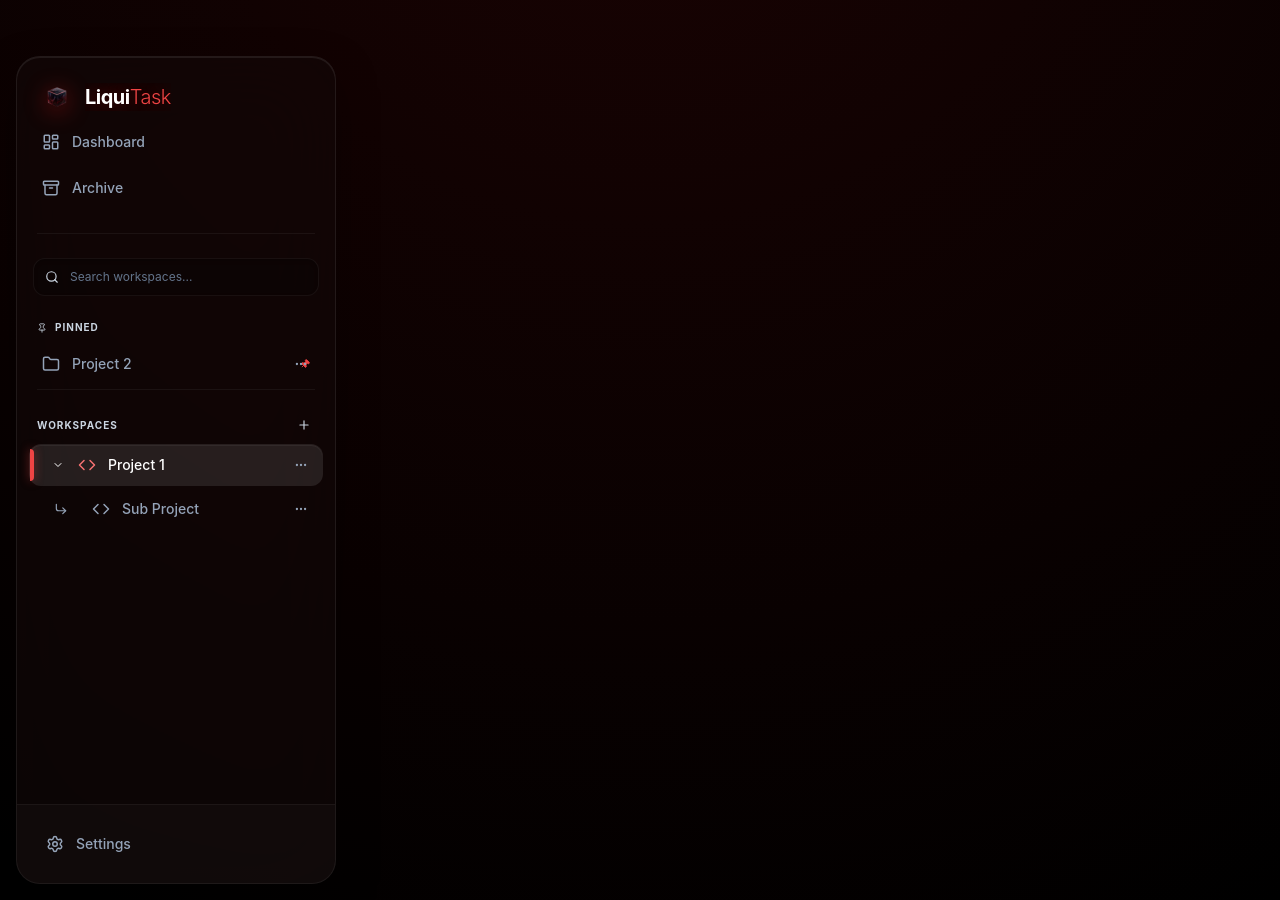
Test: Sidebar › opens more options menu for a project
The width and height of the screenshot is (1280, 900).
Click the button named "More options for Project 1" at (301,465), box [288, 452, 314, 478]
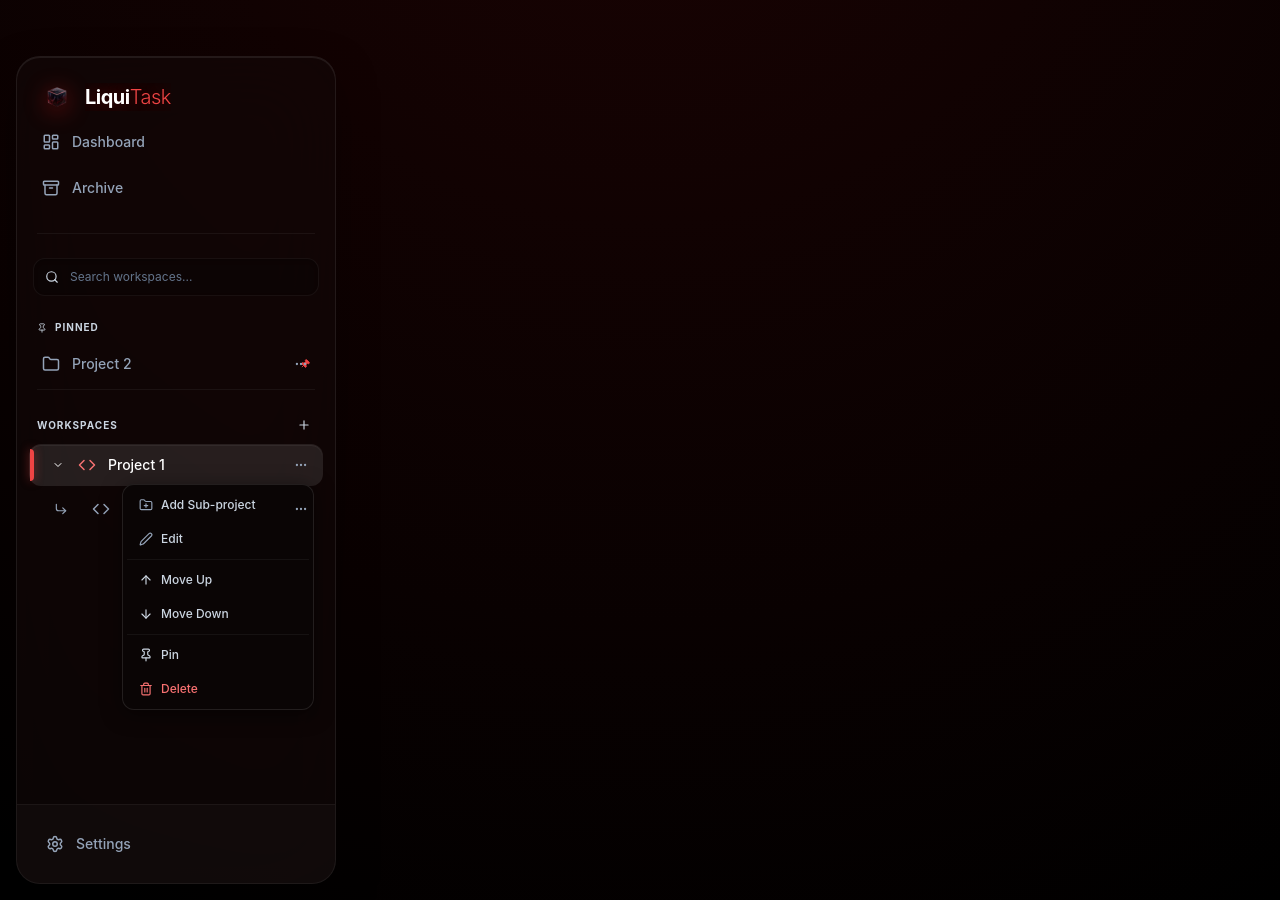
Expected: the button "Add Sub-project" is shown, [127, 489, 309, 521]
Expected: the button "Edit" is shown, [127, 523, 309, 555]
Expected: the button "Delete" is shown, [127, 673, 309, 705]
